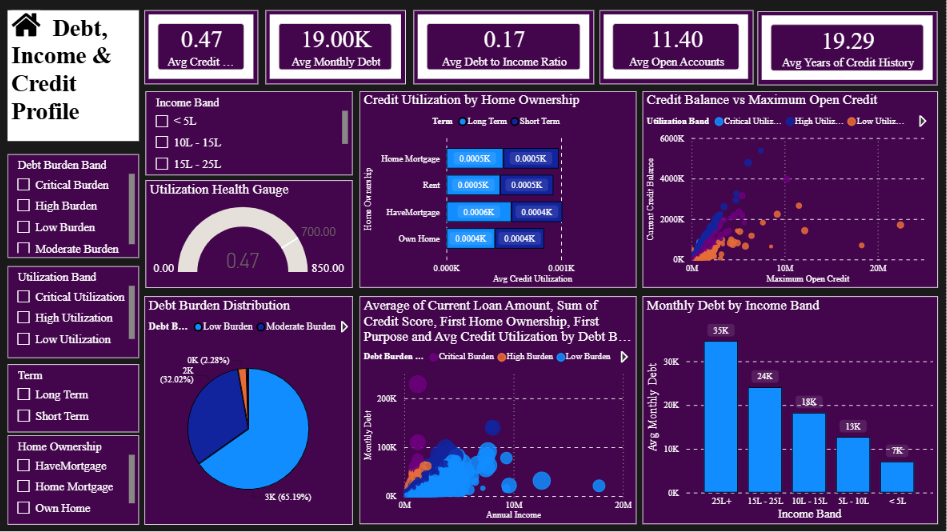

The dashboard page shown, as its layout file describes it:
{"tool":"powerbi","page":{"name":"Debt, Income & Credit Exposure","canvas":[1280,720],"ordinal":3},"visuals":[{"type":"cardVisual","fields":{"Data":["credit_test.Avg Monthly Debt"]},"box":[360,15.2,189.3,99.7],"z":0},{"type":"cardVisual","fields":{"Data":["credit_test.Avg Debt to Income Ratio"]},"box":[559.4,15.2,244.2,99.7],"z":1000},{"type":"slicer","fields":{"Values":["credit_test.Term"]},"box":[10.4,493.6,177.5,92],"z":2000},{"type":"slicer","fields":{"Values":["credit_test.Debt Burden Band"]},"box":[10.4,209.9,177.5,139.9],"z":3000},{"type":"slicer","fields":{"Values":["credit_test.Utilization Band"]},"box":[10.4,360.2,177.5,124.4],"z":4000},{"type":"slicer","fields":{"Values":["credit_test.Income Band"]},"box":[197.7,124.2,279.7,113.2],"z":5000},{"type":"clusteredColumnChart","title":"Monthly Debt by Income Band","fields":{"Y":["credit_test.Avg Monthly Debt"],"Category":["credit_test.Income Band"]},"box":[869.3,401.6,399,308.3],"z":6000},{"type":"barChart","title":"Credit Utilization by Home Ownership","fields":{"Category":["credit_test.Home Ownership"],"Y":["credit_test.Avg Credit Utilization"],"Series":["credit_test.Term"]},"box":[487.1,124.4,374.4,265.6],"z":7000},{"type":"scatterChart","fields":{"X":["credit_test.Annual Income"],"Y":["credit_test.Monthly Debt"],"Series":["credit_test.Debt Burden Band"],"Size":["Avg(credit_test.Current Loan Amount)"]},"box":[487.1,401.6,374.4,308.3],"z":8000},{"type":"scatterChart","title":"Credit Balance vs Maximum Open Credit","fields":{"X":["credit_test.Maximum Open Credit"],"Y":["credit_test.Current Credit Balance"],"Series":["credit_test.Utilization Band"],"Size":["Sum(credit_test.Current Loan Amount)"]},"box":[869.3,124.4,399,265.6],"z":9000},{"type":"cardVisual","fields":{"Data":["credit_test.Avg Open Accounts"]},"box":[810.4,15.2,207.9,99.7],"z":10000},{"type":"cardVisual","fields":{"Data":["credit_test.Avg Years of Credit History"]},"box":[1024.8,15.5,243.6,99.8],"z":11000},{"type":"pieChart","title":"Debt Burden Distribution","fields":{"Category":["credit_test.Debt Burden Band"],"Y":["credit_test.Loan Count"]},"box":[196.1,401.4,281.4,308.5],"z":12000},{"type":"gauge","title":"Utilization Health Gauge","fields":{"Y":["credit_test.Avg Credit Utilization"]},"box":[197.7,244.2,279.7,145.4],"z":13000},{"type":"slicer","fields":{"Values":["credit_test.Home Ownership"]},"box":[10.4,589.5,177.5,120.5],"z":14000},{"type":"cardVisual","fields":{"Data":["credit_test.Avg Credit Utilization"]},"box":[196.1,15.2,153.8,99.7],"z":15000},{"type":"textbox","box":[10.1,15.2,177.5,176.6],"z":17000},{"type":"image","box":[0,15.2,71.8,38.9],"z":17500}]}

Visuals, with their boxes in screenshot pixels (x1, y1, x2, y2), scaled from the page's 1280x720 canvas onto the 947x532 screenshot:
cardVisual - credit_test.Avg Monthly Debt: 266 11 406 85
cardVisual - credit_test.Avg Debt to Income Ratio: 414 11 595 85
slicer - credit_test.Term: 8 365 139 433
slicer - credit_test.Debt Burden Band: 8 155 139 258
slicer - credit_test.Utilization Band: 8 266 139 358
slicer - credit_test.Income Band: 146 92 353 175
"Monthly Debt by Income Band" clusteredColumnChart: 643 297 938 525
"Credit Utilization by Home Ownership" barChart: 360 92 637 288
scatterChart - credit_test.Annual Income x credit_test.Monthly Debt: 360 297 637 525
"Credit Balance vs Maximum Open Credit" scatterChart: 643 92 938 288
cardVisual - credit_test.Avg Open Accounts: 600 11 753 85
cardVisual - credit_test.Avg Years of Credit History: 758 11 938 85
"Debt Burden Distribution" pieChart: 145 297 353 525
"Utilization Health Gauge" gauge: 146 180 353 288
slicer - credit_test.Home Ownership: 8 436 139 525
cardVisual - credit_test.Avg Credit Utilization: 145 11 259 85
textbox: 7 11 139 142
image: 0 11 53 40
